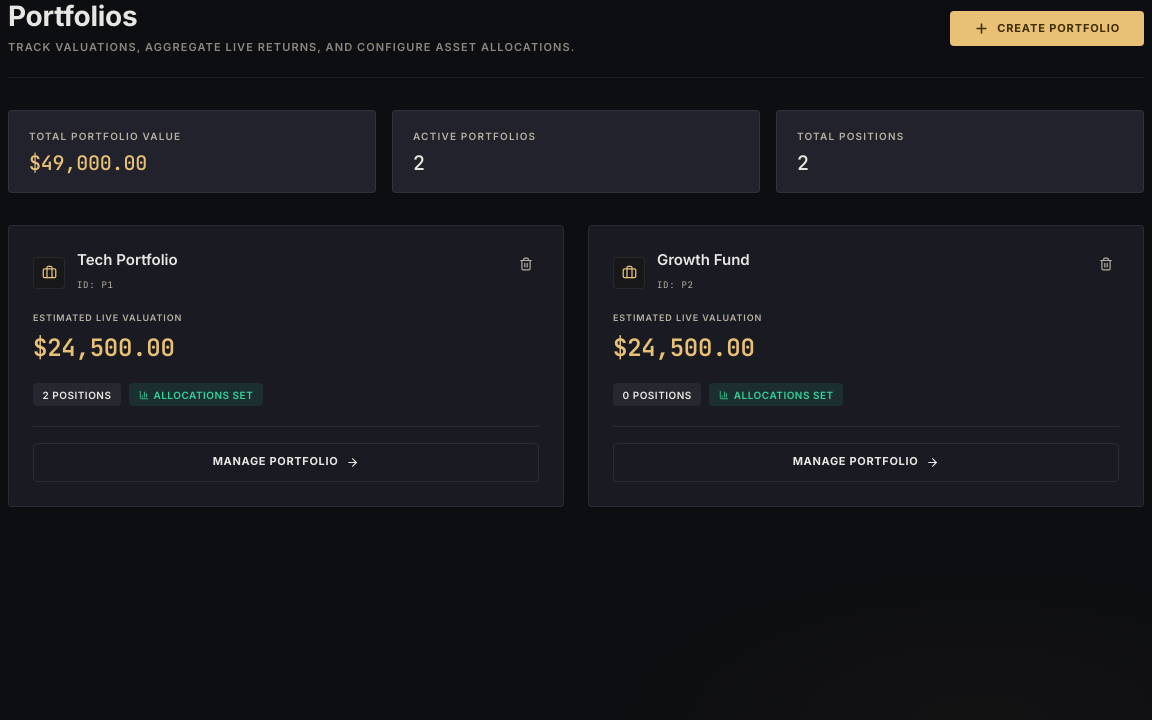
Test: Portfolios page › opens confirm dialog when delete is clicked
expect the heading "Tech Portfolio" is shown: met, box [77, 250, 178, 270]
Click the button named "delete portfolio" at (526, 264), box [512, 250, 539, 277]
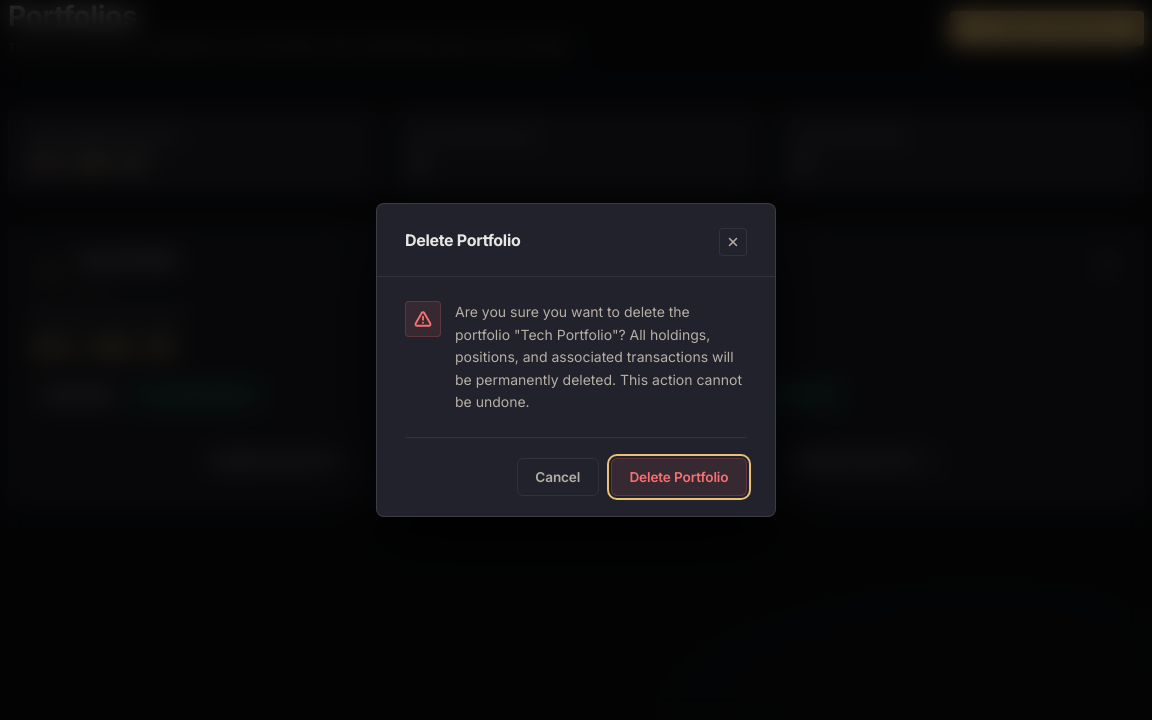
expect the dialog is shown: met
